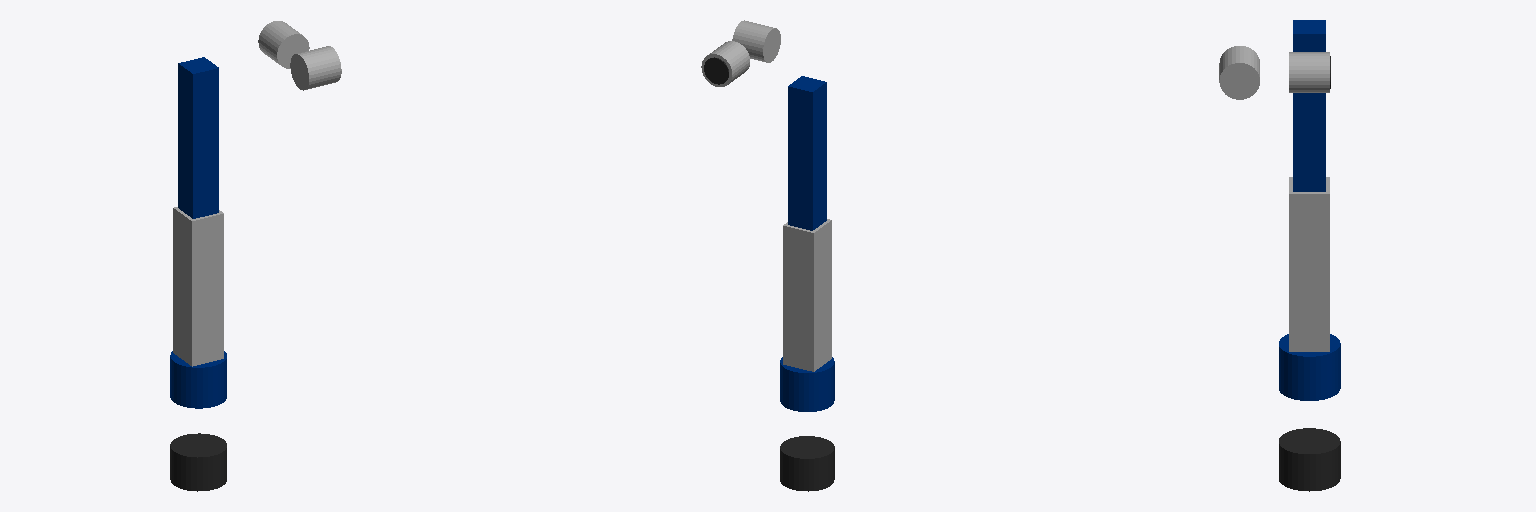
URDF robot description (ur3e):
<?xml version="1.0"?>
<robot name="ur3e">

  <!-- materials -->
  <material name="ur_blue">
    <color rgba="0.0 0.22 0.52 1.0"/>
  </material>
  <material name="ur_silver">
    <color rgba="0.70 0.70 0.70 1.0"/>
  </material>
  <material name="ur_dark">
    <color rgba="0.20 0.20 0.20 1.0"/>
  </material>

  <!-- ==================== base ==================== -->
  <link name="base_link">
    <visual>
      <geometry><cylinder radius="0.038" length="0.050"/></geometry>
      <origin xyz="0 0 0.025" rpy="0 0 0"/>
      <material name="ur_dark"/>
    </visual>
    <collision>
      <geometry><cylinder radius="0.038" length="0.050"/></geometry>
      <origin xyz="0 0 0.025" rpy="0 0 0"/>
    </collision>
    <inertial>
      <mass value="2.0"/>
      <origin xyz="0 0 0.025"/>
      <inertia ixx="1e-3" ixy="0" ixz="0" iyy="1e-3" iyz="0" izz="1e-3"/>
    </inertial>
  </link>

  <!-- ==================== shoulder pan ==================== -->
  <joint name="shoulder_pan_joint" type="revolute">
    <parent link="base_link"/>
    <child  link="shoulder_link"/>
    <origin xyz="0 0 0.15185" rpy="0 0 0"/>
    <axis xyz="0 0 1"/>
    <limit lower="-6.2832" upper="6.2832" effort="56" velocity="3.14"/>
    <dynamics damping="0.5" friction="0.1"/>
  </joint>

  <link name="shoulder_link">
    <visual>
      <geometry><cylinder radius="0.038" length="0.060"/></geometry>
      <origin xyz="0 0 0" rpy="0 0 0"/>
      <material name="ur_blue"/>
    </visual>
    <collision>
      <geometry><cylinder radius="0.038" length="0.060"/></geometry>
      <origin xyz="0 0 0" rpy="0 0 0"/>
    </collision>
    <inertial>
      <mass value="2.0"/>
      <inertia ixx="1e-3" ixy="0" ixz="0" iyy="1e-3" iyz="0" izz="1e-3"/>
    </inertial>
  </link>

  <!-- ==================== shoulder lift ==================== -->
  <joint name="shoulder_lift_joint" type="revolute">
    <parent link="shoulder_link"/>
    <child  link="upper_arm_link"/>
    <origin xyz="0 0 0" rpy="0 1.5707963 0"/>
    <axis xyz="0 1 0"/>
    <limit lower="-6.2832" upper="6.2832" effort="56" velocity="3.14"/>
    <dynamics damping="0.5" friction="0.1"/>
  </joint>

  <link name="upper_arm_link">
    <visual>
      <geometry><box size="0.24355 0.050 0.050"/></geometry>
      <origin xyz="-0.121775 0 0" rpy="0 0 0"/>
      <material name="ur_silver"/>
    </visual>
    <collision>
      <geometry><box size="0.24355 0.050 0.050"/></geometry>
      <origin xyz="-0.121775 0 0" rpy="0 0 0"/>
    </collision>
    <inertial>
      <mass value="1.5"/>
      <origin xyz="-0.121775 0 0"/>
      <inertia ixx="5e-3" ixy="0" ixz="0" iyy="5e-3" iyz="0" izz="1e-3"/>
    </inertial>
  </link>

  <!-- ==================== elbow ==================== -->
  <joint name="elbow_joint" type="revolute">
    <parent link="upper_arm_link"/>
    <child  link="forearm_link"/>
    <origin xyz="-0.24355 0 0" rpy="0 0 0"/>
    <axis xyz="0 1 0"/>
    <limit lower="-6.2832" upper="6.2832" effort="28" velocity="3.14"/>
    <dynamics damping="0.5" friction="0.1"/>
  </joint>

  <link name="forearm_link">
    <visual>
      <geometry><box size="0.2132 0.040 0.040"/></geometry>
      <origin xyz="-0.1066 0 0" rpy="0 0 0"/>
      <material name="ur_blue"/>
    </visual>
    <collision>
      <geometry><box size="0.2132 0.040 0.040"/></geometry>
      <origin xyz="-0.1066 0 0" rpy="0 0 0"/>
    </collision>
    <inertial>
      <mass value="1.0"/>
      <origin xyz="-0.1066 0 0"/>
      <inertia ixx="3e-3" ixy="0" ixz="0" iyy="3e-3" iyz="0" izz="5e-4"/>
    </inertial>
  </link>

  <!-- ==================== wrist 1 ==================== -->
  <joint name="wrist_1_joint" type="revolute">
    <parent link="forearm_link"/>
    <child  link="wrist_1_link"/>
    <origin xyz="-0.2132 0 0.13105" rpy="0 0 0"/>
    <axis xyz="0 1 0"/>
    <limit lower="-6.2832" upper="6.2832" effort="28" velocity="6.28"/>
    <dynamics damping="0.3" friction="0.05"/>
  </joint>

  <link name="wrist_1_link">
    <visual>
      <geometry><cylinder radius="0.025" length="0.050"/></geometry>
      <origin xyz="0 0 0" rpy="1.5707963 0 0"/>
      <material name="ur_silver"/>
    </visual>
    <collision>
      <geometry><cylinder radius="0.025" length="0.050"/></geometry>
      <origin xyz="0 0 0" rpy="1.5707963 0 0"/>
    </collision>
    <inertial>
      <mass value="0.5"/>
      <inertia ixx="3e-4" ixy="0" ixz="0" iyy="3e-4" iyz="0" izz="3e-4"/>
    </inertial>
  </link>

  <!-- ==================== wrist 2 ==================== -->
  <joint name="wrist_2_joint" type="revolute">
    <parent link="wrist_1_link"/>
    <child  link="wrist_2_link"/>
    <origin xyz="0 -0.08535 0" rpy="0 0 0"/>
    <axis xyz="0 0 1"/>
    <limit lower="-6.2832" upper="6.2832" effort="28" velocity="6.28"/>
    <dynamics damping="0.3" friction="0.05"/>
  </joint>

  <link name="wrist_2_link">
    <visual>
      <geometry><cylinder radius="0.025" length="0.050"/></geometry>
      <origin xyz="0 0 0" rpy="0 0 0"/>
      <material name="ur_silver"/>
    </visual>
    <collision>
      <geometry><cylinder radius="0.025" length="0.050"/></geometry>
      <origin xyz="0 0 0" rpy="0 0 0"/>
    </collision>
    <inertial>
      <mass value="0.5"/>
      <inertia ixx="3e-4" ixy="0" ixz="0" iyy="3e-4" iyz="0" izz="3e-4"/>
    </inertial>
  </link>

  <!-- ==================== wrist 3 ==================== -->
  <joint name="wrist_3_joint" type="revolute">
    <parent link="wrist_2_link"/>
    <child  link="wrist_3_link"/>
    <origin xyz="0 0.0921 0" rpy="0 0 0"/>
    <axis xyz="0 1 0"/>
    <limit lower="-6.2832" upper="6.2832" effort="28" velocity="6.28"/>
    <dynamics damping="0.3" friction="0.05"/>
  </joint>

  <link name="wrist_3_link">
    <visual>
      <geometry><cylinder radius="0.020" length="0.040"/></geometry>
      <origin xyz="0 0 0" rpy="1.5707963 0 0"/>
      <material name="ur_dark"/>
    </visual>
    <collision>
      <geometry><cylinder radius="0.020" length="0.040"/></geometry>
      <origin xyz="0 0 0" rpy="1.5707963 0 0"/>
    </collision>
    <inertial>
      <mass value="0.3"/>
      <inertia ixx="1e-4" ixy="0" ixz="0" iyy="1e-4" iyz="0" izz="1e-4"/>
    </inertial>
  </link>

  <!-- ==================== end-effector (fixed) ==================== -->
  <joint name="ee_fixed_joint" type="fixed">
    <parent link="wrist_3_link"/>
    <child  link="ee_link"/>
    <origin xyz="0 0 0" rpy="0 0 1.5707963"/>
  </joint>

  <link name="ee_link">
    <inertial>
      <mass value="0.01"/>
      <inertia ixx="1e-5" ixy="0" ixz="0" iyy="1e-5" iyz="0" izz="1e-5"/>
    </inertial>
  </link>

</robot>

--- Facts derived from the render (not from the file) ---
3 views of the same robot in one strip: view 1: azimuth 30°, elevation 25°; view 2: azimuth 150°, elevation 25°; view 3: azimuth 270°, elevation 25° (orthographic).
Model ur3e with 8 links and 7 joints (6 revolute, 1 fixed), rooted at base_link, posed every joint at zero.
Visible links, largest first — view 1: upper_arm_link, forearm_link, base_link, shoulder_link, wrist_2_link, wrist_1_link; view 2: upper_arm_link, forearm_link, base_link, shoulder_link, wrist_2_link, wrist_1_link; view 3: upper_arm_link, forearm_link, base_link, shoulder_link, wrist_2_link, wrist_1_link.
Link boxes in pixels (x1,y1,x2,y2): upper_arm_link: (173,207,223,366); forearm_link: (178,57,218,218); base_link: (170,433,226,491); shoulder_link: (170,351,226,408); wrist_2_link: (290,46,341,90); wrist_1_link: (258,21,309,68); upper_arm_link: (783,219,831,371); forearm_link: (788,76,826,230); base_link: (780,436,834,491); shoulder_link: (780,357,834,411); wrist_2_link: (732,20,780,62); wrist_1_link: (701,41,749,86); upper_arm_link: (1289,177,1329,351); forearm_link: (1293,20,1325,191); base_link: (1279,428,1340,491); shoulder_link: (1279,334,1340,400); wrist_2_link: (1219,46,1259,99); wrist_1_link: (1289,52,1329,92).
Bounding box of the posed robot: 0.194 × 0.1484 × 0.6336 m (x, y, z).
Geometry: primitives only (box / cylinder / sphere), no mesh files.
